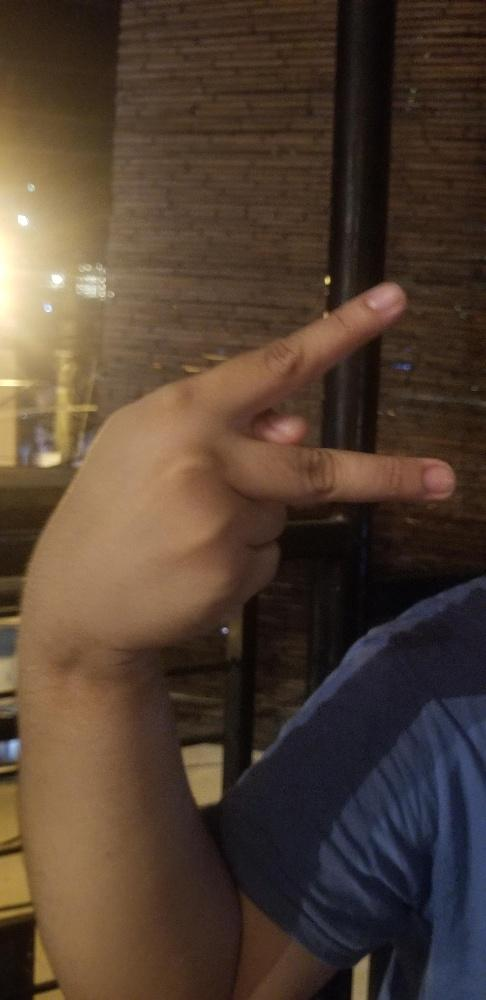k: (29, 282, 455, 649)
